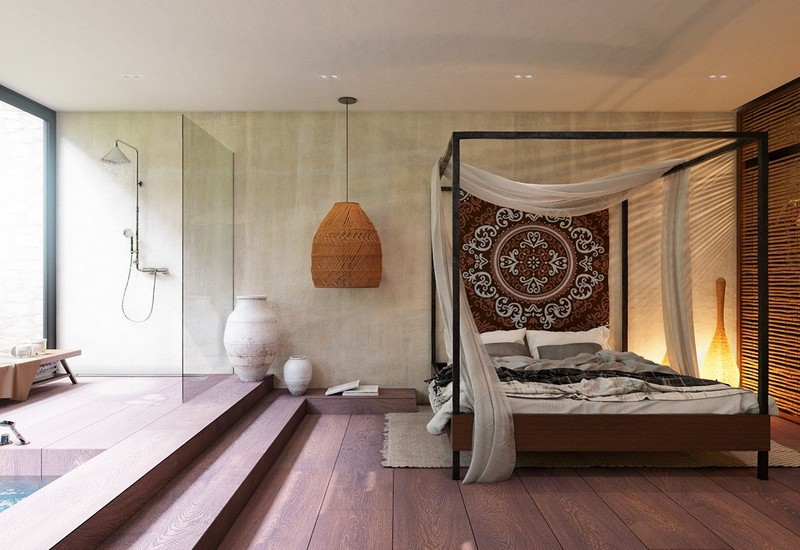bed: (433, 128, 774, 480)
lamp: (706, 274, 740, 389)
table: (4, 343, 87, 410)
